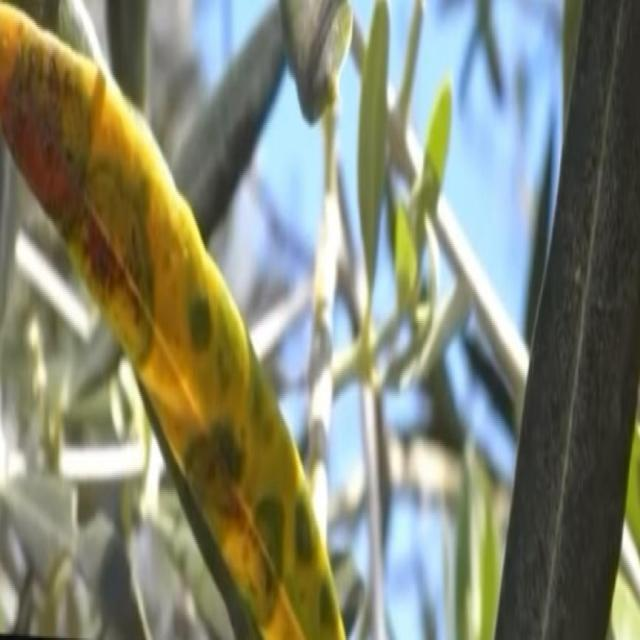OlivePeacockSpot: (0, 2, 344, 636)
